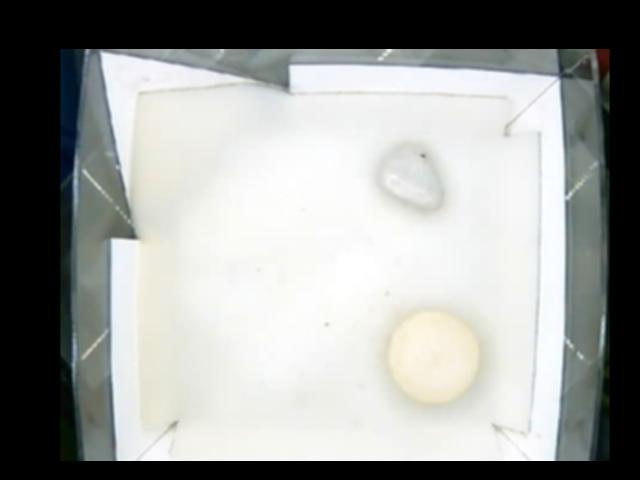Mooli: (387, 310, 476, 404)
Pebble: (379, 138, 443, 212)
